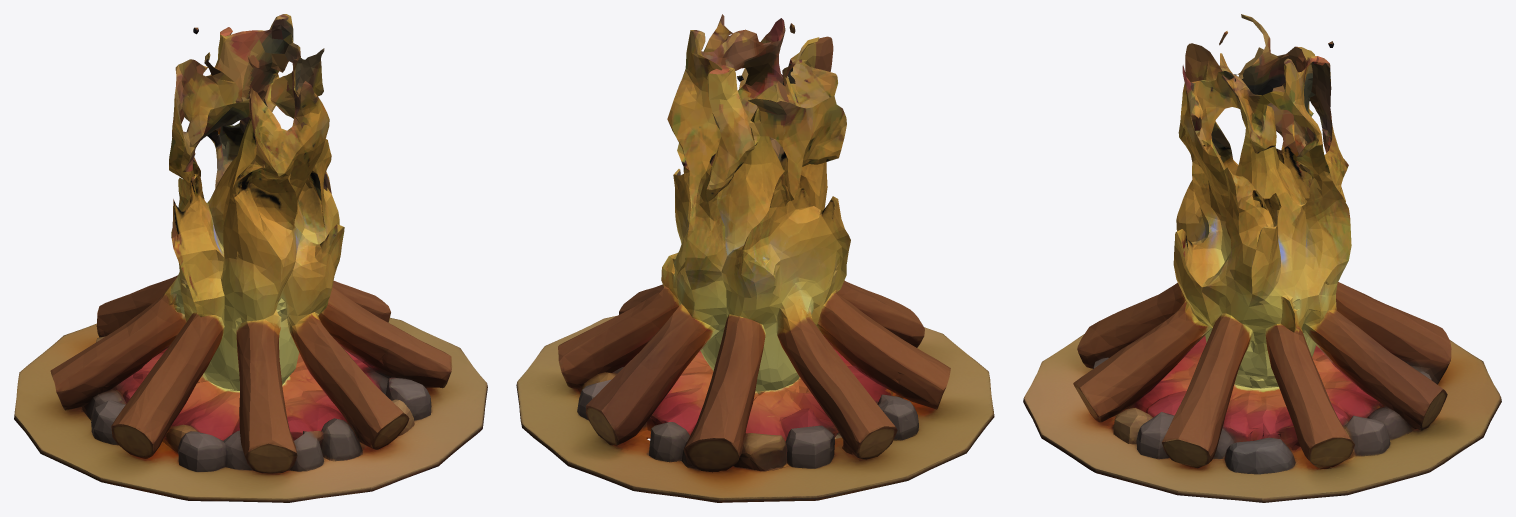
The model's file is campfire.glb.
3 renders of one model, left to right at view 1: azimuth 30°, elevation 25°; view 2: azimuth 150°, elevation 25°; view 3: azimuth 270°, elevation 25°, orthographic.
Parts seen in each view (by area): view 1: world; view 2: world; view 3: world.
Boxes of the visible parts, x1=… form: world: x1=14, y1=14, x2=487, y2=502; world: x1=516, y1=14, x2=994, y2=502; world: x1=1023, y1=14, x2=1501, y2=502.
Bounding box in the file's own units: 0.8144 × 0.6945 × 0.8139.
1 material, 1 textured.
